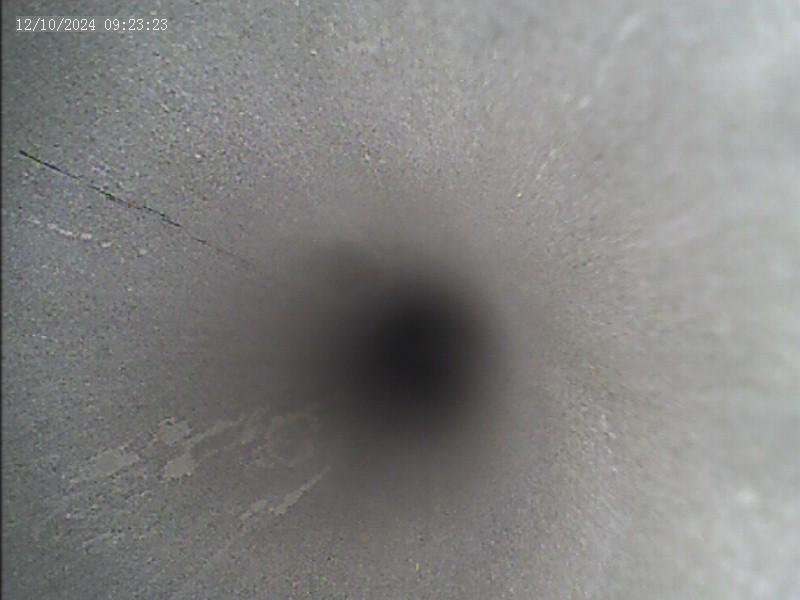defective_area: (6, 146, 332, 522)
